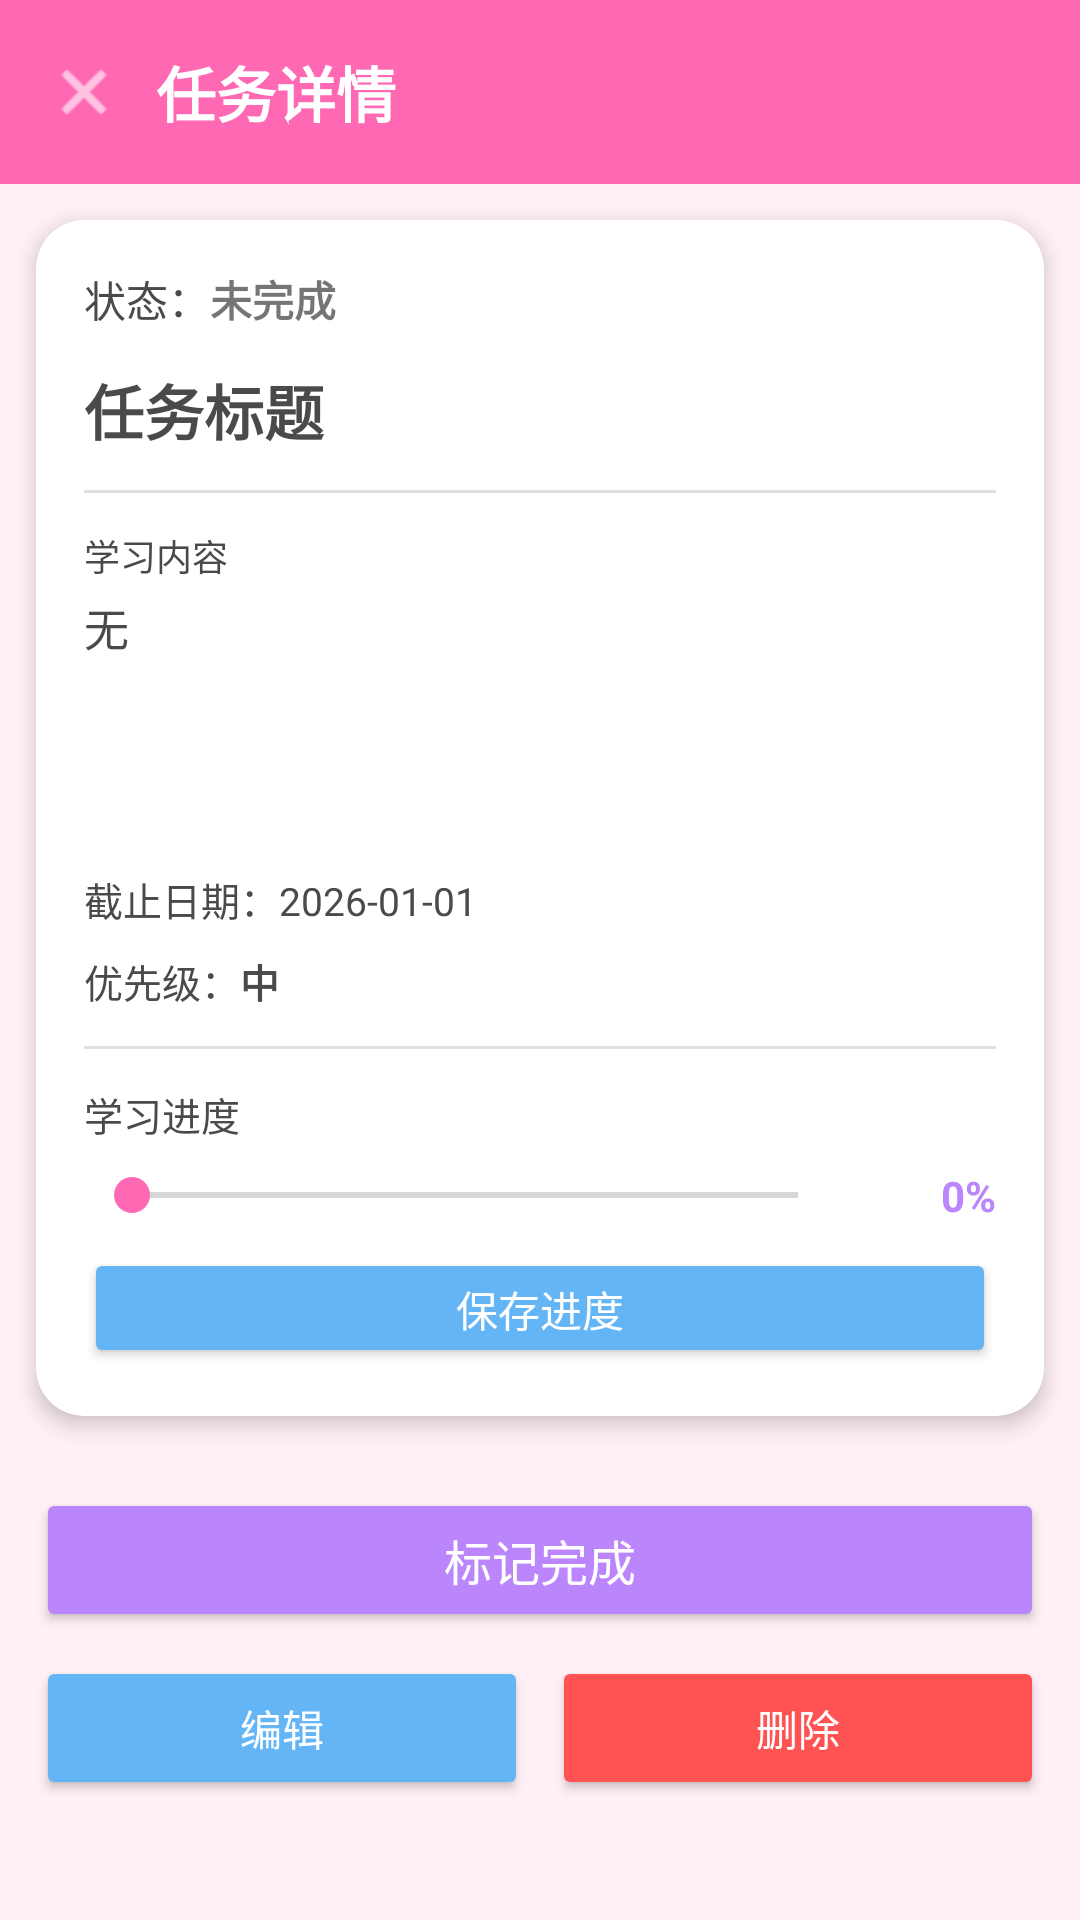

Named icons in this screenshot (1080×1920) and their bounding boxes, (x1, y1, x2, y2):
close clear cancel: (62, 70, 106, 114)
